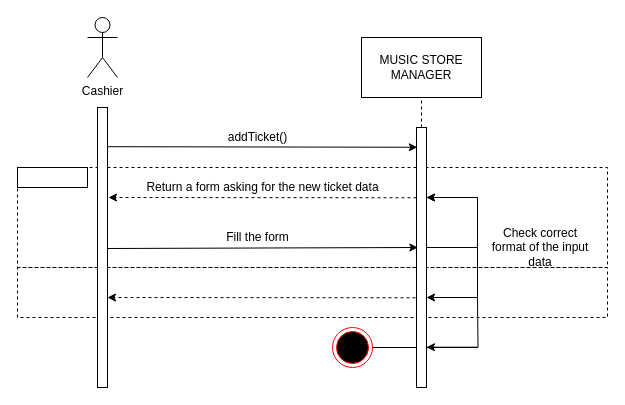
Some shapes in this 625 by 405 pixel diagram are drawn without their labels. Each missing label, with the box of its shape:
Alternative: (16, 166, 88, 188)
Ticket correctly added message: (16, 266, 608, 318)
